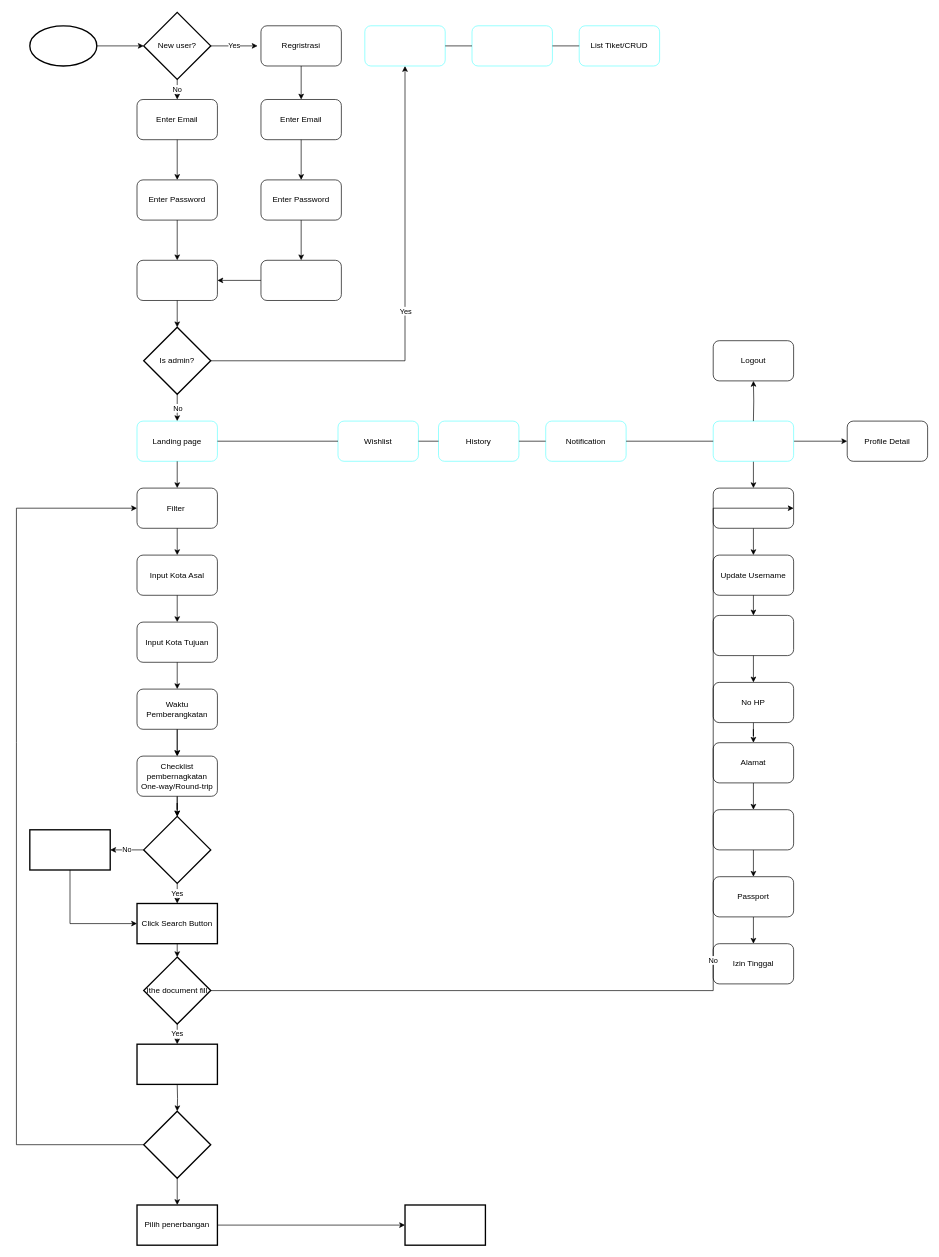
This 939x1257 diagram has some shape labels left out. Each missing label, with the centre of its shape:
"Admin dashboard" belongs at pixel 404 45.
"Click Tombol Bayar" belongs at pixel 445 1225.
"Correct?" belongs at pixel 177 1144.
"IS One-way?" belongs at pixel 177 849.
"List Costumer" belongs at pixel 511 45.
"List penerbangan" belongs at pixel 177 1064.
"Profile" belongs at pixel 753 440.
"Sign in" belongs at pixel 176 280.
"Sign up" belongs at pixel 300 280.
"Start" belongs at pixel 63 45.
"Update Profile" belongs at pixel 753 507.
"Upload Foto" belongs at pixel 753 635.
"Visa" belongs at pixel 753 829.
"Waktu Pulang" belongs at pixel 70 849.
